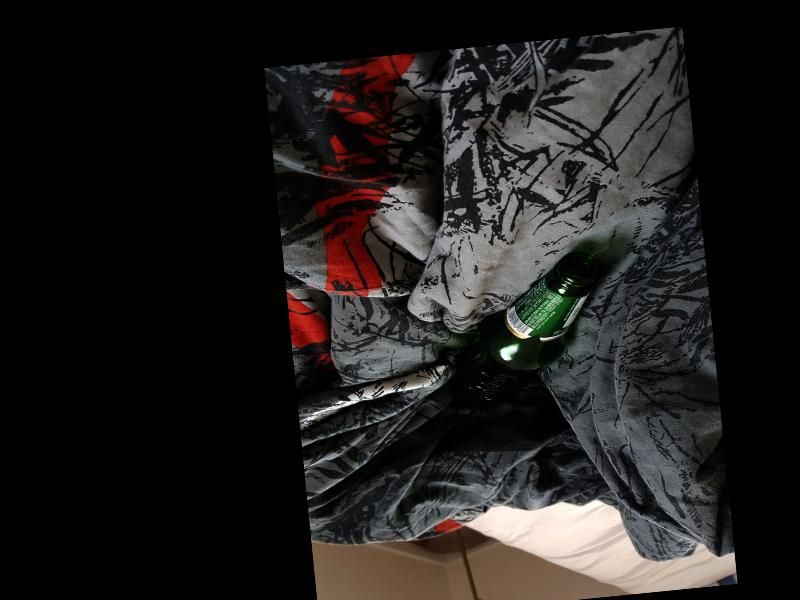Beer: (436, 249, 613, 411)
